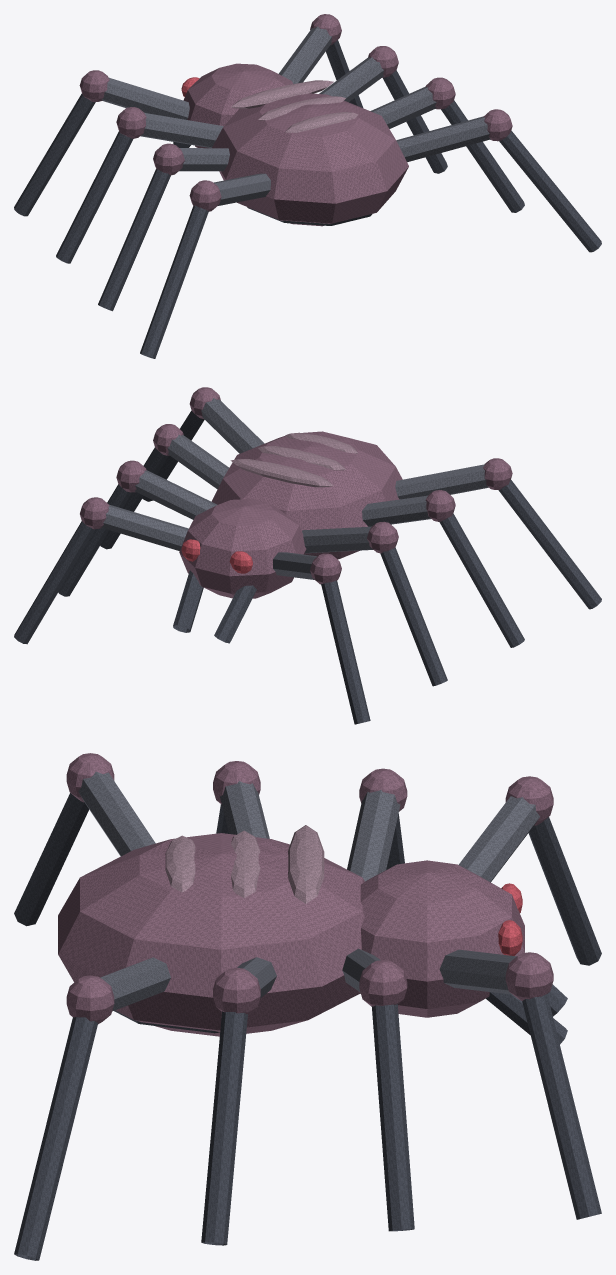
Rendered from spider_queen.glb.
3 views of the same model, one above another, from view 1: azimuth 30°, elevation 25°; view 2: azimuth 150°, elevation 25°; view 3: azimuth 270°, elevation 25° (orthographic). The views are drawn at different scales.
Bounding box in the file's own units: 7.63 × 2.42 × 5.4.
5 materials, 5 textured.
